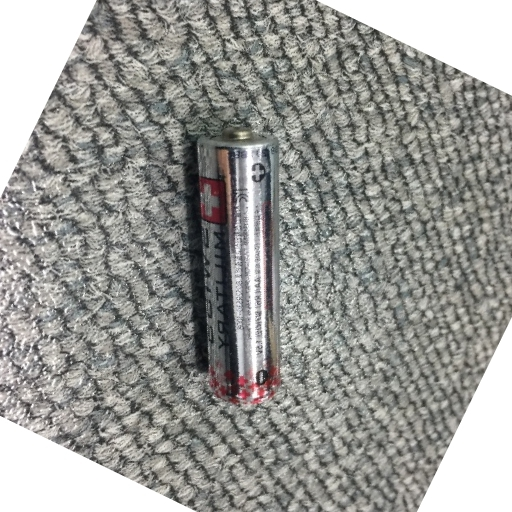Battery_0: (190, 118, 293, 412)
